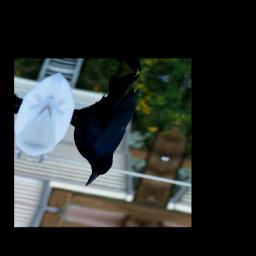Crow: (50, 65, 148, 191)
